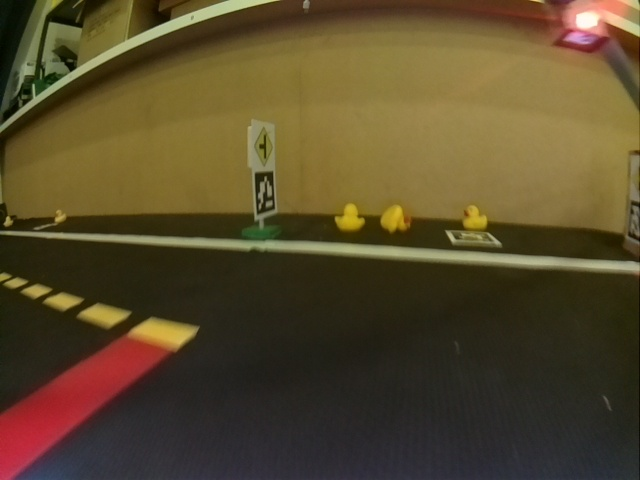Duckie: (381, 206, 410, 233), (336, 204, 363, 228), (464, 206, 486, 228), (55, 212, 65, 222), (4, 218, 12, 226)
Intersection sign: (253, 126, 274, 168)
QR code: (255, 171, 275, 214), (448, 232, 500, 244)
Traffic light: (552, 3, 607, 51)
